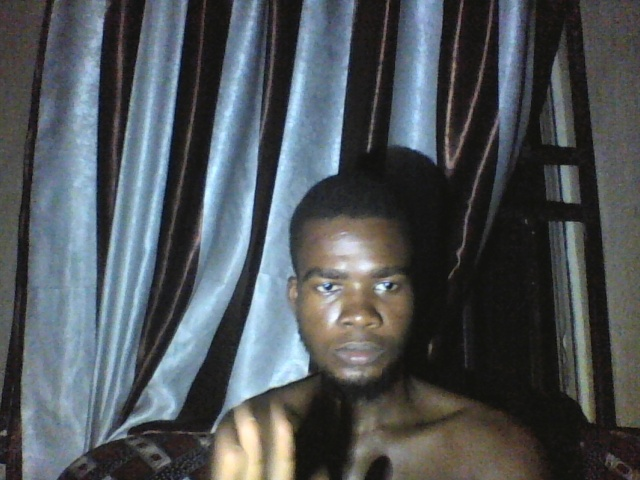hello: (212, 408, 326, 480)
